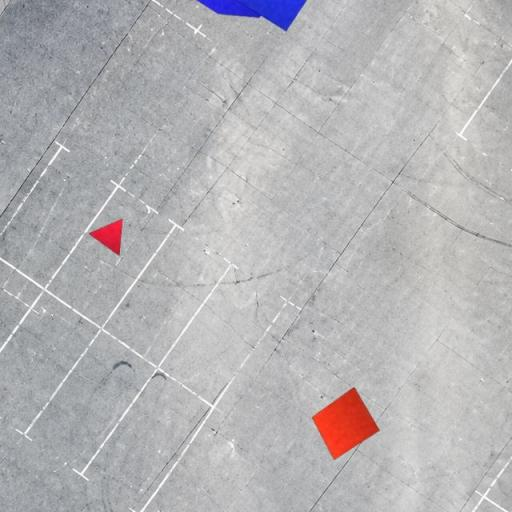RED_SQUARE: (311, 386, 380, 461)
